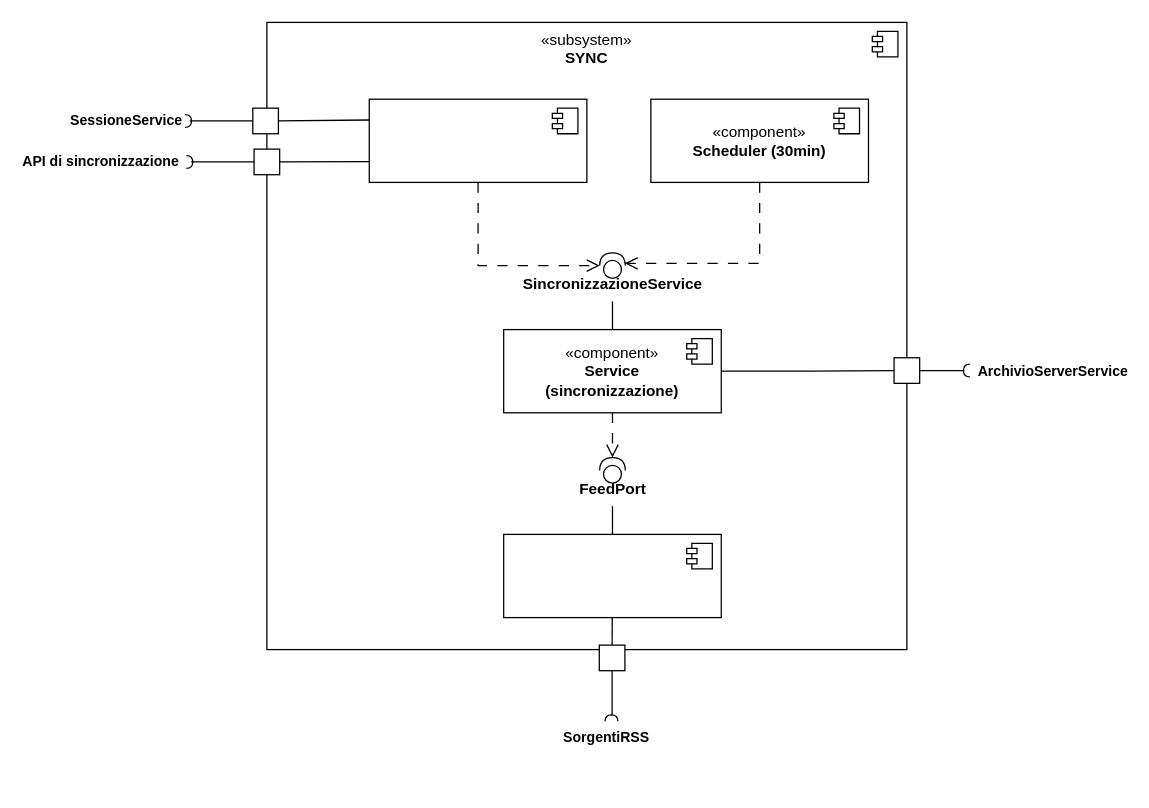
Image size: 1149x808. Some labels were removed from this diagram. Each missing label, with the centre of its shape:
"«component» Controller REST (aggiornamento manuale)" belongs at (477,140).
"«component» DAO (Adattatore RSS)" belongs at (611,575).
